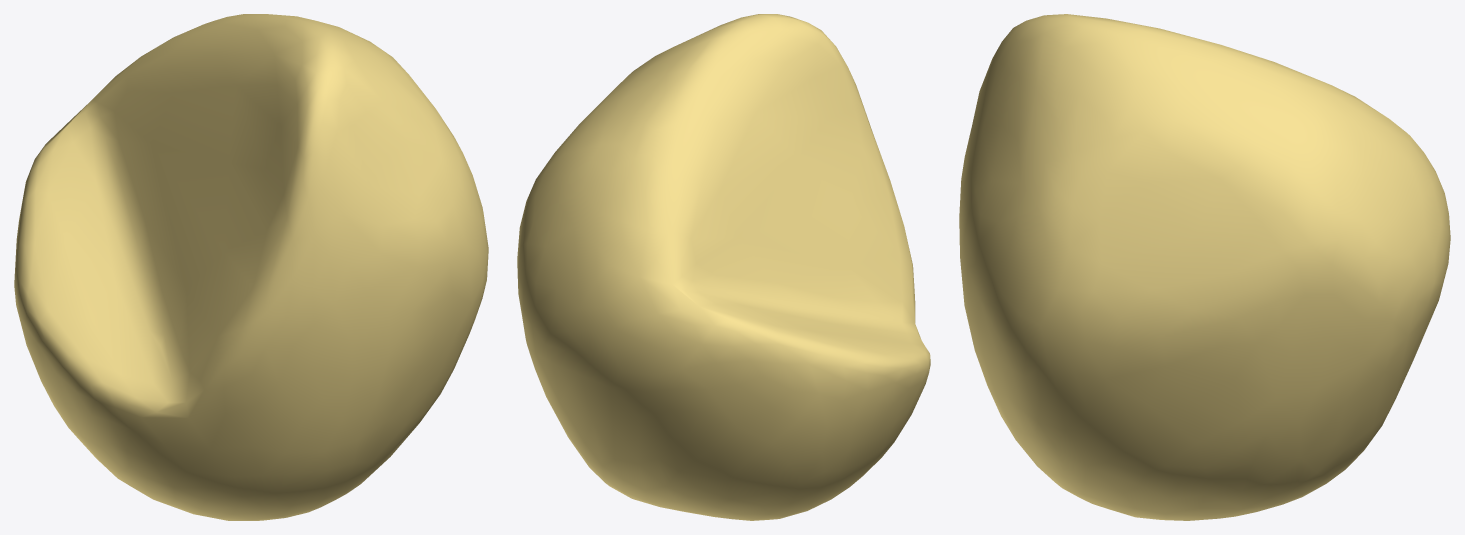
The model's file is fma73347_mm2963m.glb.
3 renders of one model, left to right at view 1: azimuth 30°, elevation 25°; view 2: azimuth 150°, elevation 25°; view 3: azimuth 270°, elevation 25°, orthographic. The views are drawn at different scales.
Visible parts, largest first — view 1: FMA73347_MM2963M; view 2: FMA73347_MM2963M; view 3: FMA73347_MM2963M.
Part boxes in pixels (x1=…): FMA73347_MM2963M: x1=14, y1=14, x2=488, y2=520; FMA73347_MM2963M: x1=517, y1=14, x2=930, y2=520; FMA73347_MM2963M: x1=959, y1=14, x2=1450, y2=520.
Bounding box in the file's own units: 0.00478 × 0.00578 × 0.00516.
